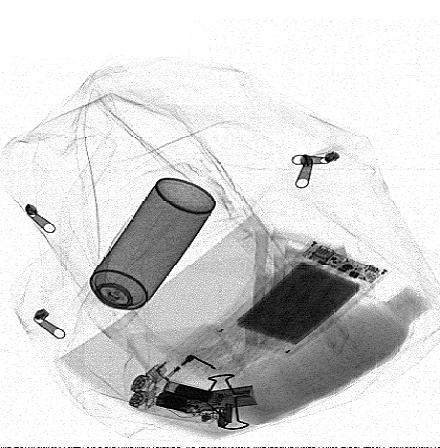Lighter: (143, 321, 230, 390)
Powerbank: (212, 238, 393, 358)
Sprayer: (70, 175, 217, 333)
